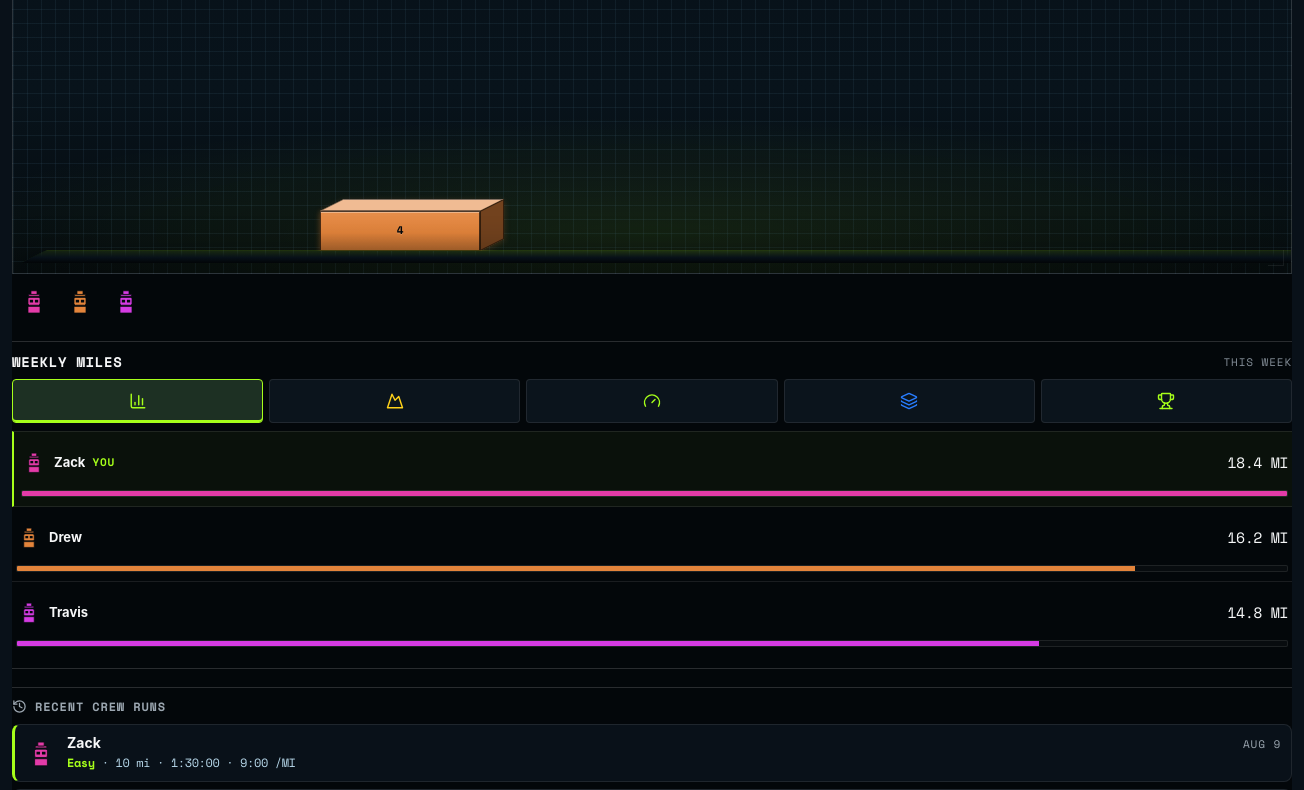
Test: Crew comparisons and runs › compares Avg Pace over the trailing 28 days in a Race Crew, fastest first
(page scrolled)
Click the tab named "Avg Pace".
click(652, 401)  # box [526,379,778,423]
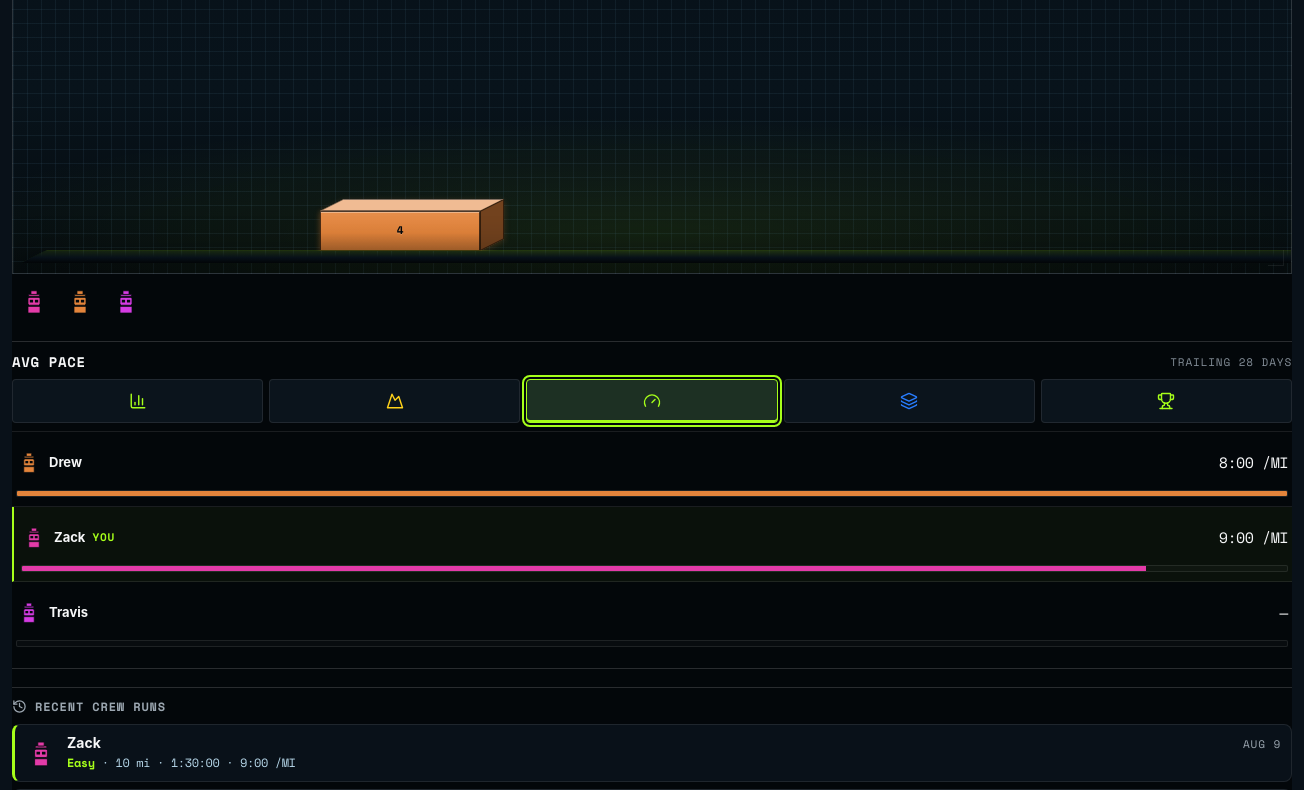
Check: the text "8:00 /MI" is shown, box [1219,451,1288,473]
Check: the text "9:00 /MI" is shown, box [1219,526,1288,548]
Check: the text "—" is shown, box [1279,601,1288,623]
